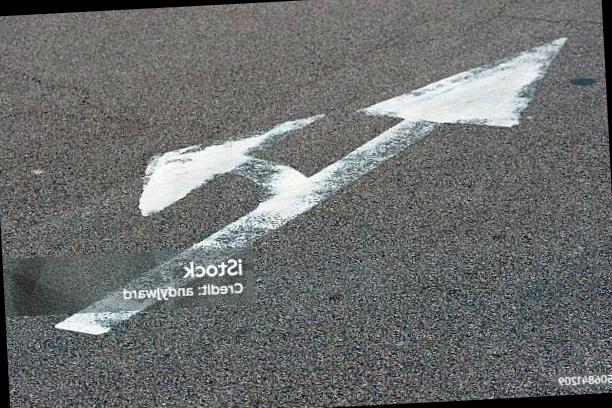faded_road_lines: (38, 30, 581, 335)
